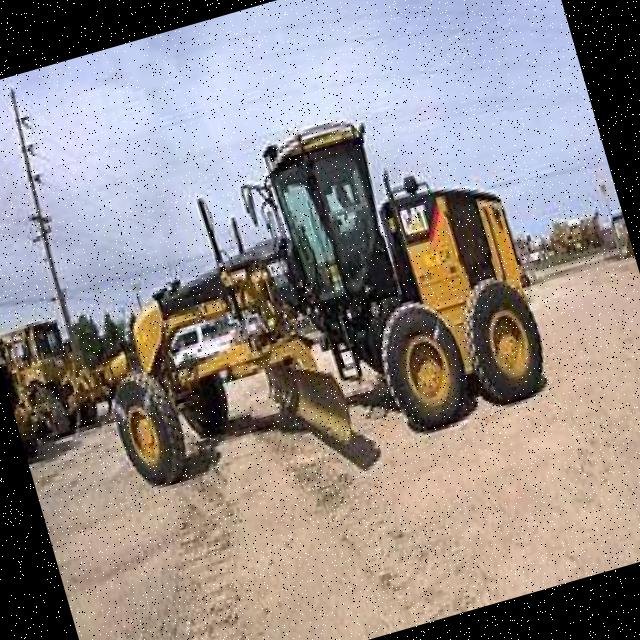Grader: (41, 68, 572, 526)
